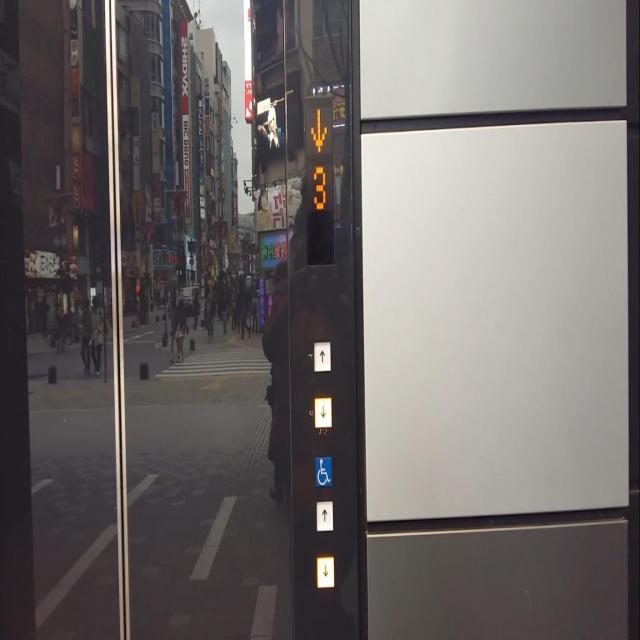CH: (313, 454, 332, 488)
down: (313, 395, 332, 429), (316, 554, 334, 588)
led: (304, 95, 335, 265)
up: (314, 498, 334, 532), (312, 339, 331, 373)
